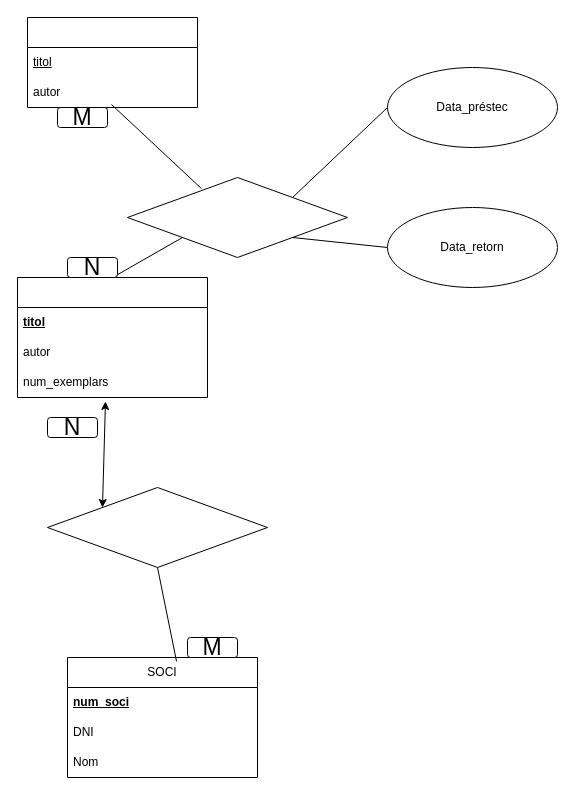
This 575x795 diagram has some shape labels left out. The shapes that lost their labels are listed below. From the top down, each one's box as (x1, y1, x2, y2) in pixels, then its label:
(26, 16, 198, 108): TEMA
(126, 176, 348, 258): PRÉSTEC
(16, 276, 208, 398): LLIBRE
(46, 486, 268, 568): CLASSIFICACIÓ
